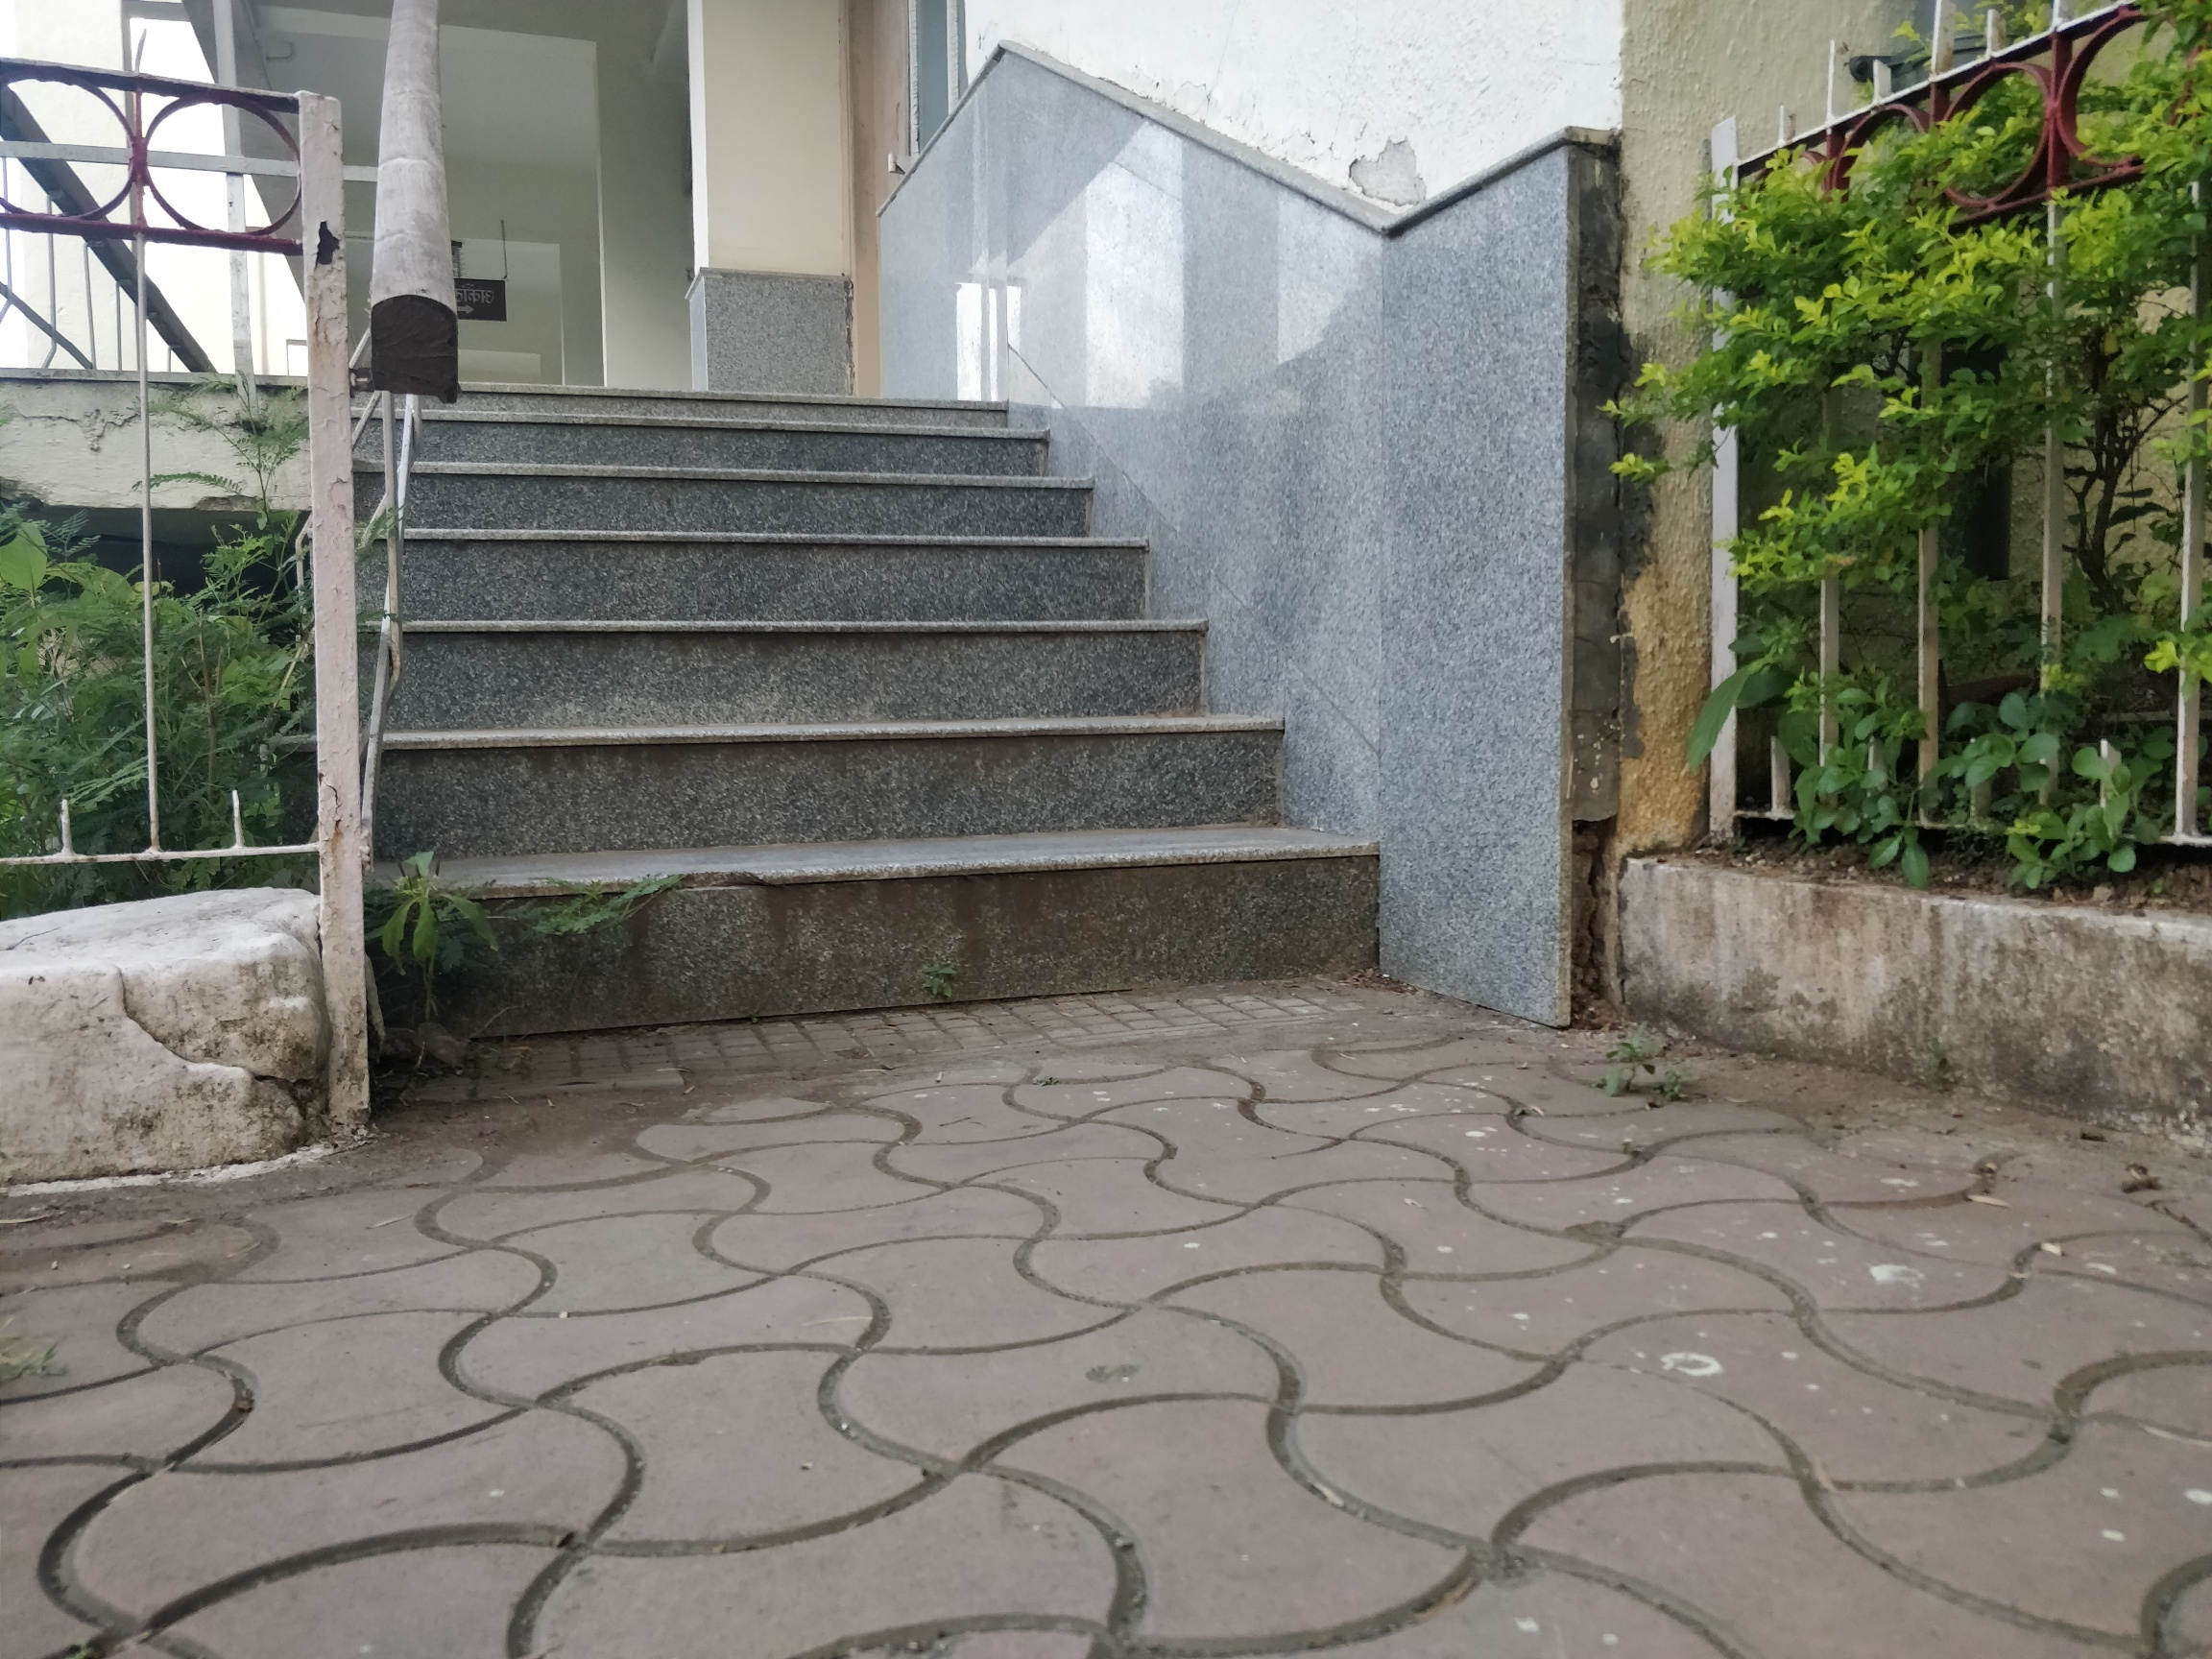stairs_up: (352, 359, 1421, 1110)
